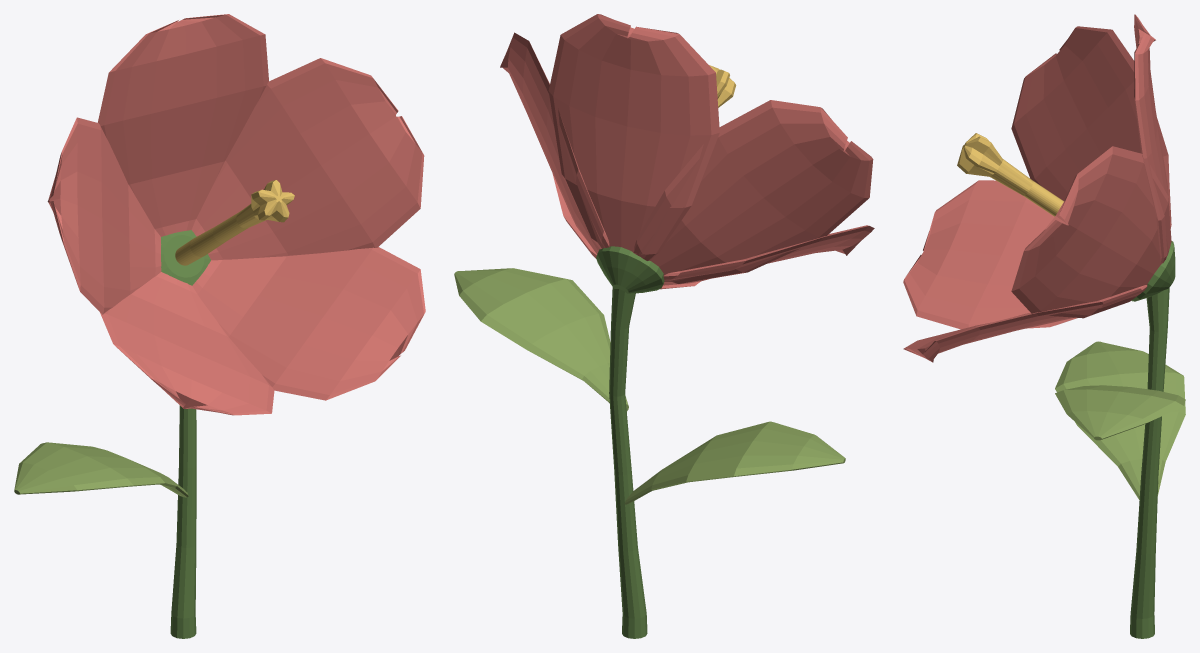
3 views of the same model, side by side, from view 1: azimuth 30°, elevation 25°; view 2: azimuth 150°, elevation 25°; view 3: azimuth 270°, elevation 25° (orthographic). The views are drawn at different scales.
Parts seen in each view (by area): view 1: WholeBroadCurvedCuppedHibiscusPetal4, WholeBroadCurvedCuppedHibiscusPetal3, WholeBroadCurvedCuppedHibiscusPetal0, WholeBroadCurvedCuppedHibiscusPetal2, WholeBroadCurvedCuppedHibiscusPetal1, WholeBroadPointedHibiscusStemLeaf0, WholeCurvedAboveGroundHibiscusStem, WholeLongProjectingColumnAndIntegralLobedEnd, WholeGreenFlowerReceptacle; view 2: WholeBroadCurvedCuppedHibiscusPetal0, WholeBroadCurvedCuppedHibiscusPetal1, WholeBroadPointedHibiscusStemLeaf1, WholeBroadPointedHibiscusStemLeaf0, WholeCurvedAboveGroundHibiscusStem, WholeBroadCurvedCuppedHibiscusPetal4, WholeBroadCurvedCuppedHibiscusPetal2, WholeGreenFlowerReceptacle, WholeBroadCurvedCuppedHibiscusPetal3; view 3: WholeBroadCurvedCuppedHibiscusPetal4, WholeBroadCurvedCuppedHibiscusPetal1, WholeBroadCurvedCuppedHibiscusPetal2, WholeBroadPointedHibiscusStemLeaf0, WholeCurvedAboveGroundHibiscusStem, WholeBroadPointedHibiscusStemLeaf1, WholeBroadCurvedCuppedHibiscusPetal0, WholeBroadCurvedCuppedHibiscusPetal3, WholeLongProjectingColumnAndIntegralLobedEnd, WholeGreenFlowerReceptacle.
Boxes of the visible parts, x1,y1,x2,y2 form: WholeBroadCurvedCuppedHibiscusPetal4: [191, 58, 424, 260]; WholeBroadCurvedCuppedHibiscusPetal3: [192, 247, 425, 400]; WholeBroadCurvedCuppedHibiscusPetal0: [97, 14, 268, 236]; WholeBroadCurvedCuppedHibiscusPetal2: [100, 272, 274, 415]; WholeBroadCurvedCuppedHibiscusPetal1: [47, 117, 161, 314]; WholeBroadPointedHibiscusStemLeaf0: [14, 442, 188, 497]; WholeCurvedAboveGroundHibiscusStem: [170, 405, 196, 638]; WholeLongProjectingColumnAndIntegralLobedEnd: [175, 180, 294, 265]; WholeGreenFlowerReceptacle: [161, 230, 210, 285]; WholeBroadCurvedCuppedHibiscusPetal0: [548, 14, 719, 260]; WholeBroadCurvedCuppedHibiscusPetal1: [633, 100, 873, 284]; WholeBroadPointedHibiscusStemLeaf1: [454, 268, 628, 411]; WholeBroadPointedHibiscusStemLeaf0: [624, 421, 845, 504]; WholeCurvedAboveGroundHibiscusStem: [609, 287, 647, 638]; WholeBroadCurvedCuppedHibiscusPetal4: [500, 32, 609, 253]; WholeBroadCurvedCuppedHibiscusPetal2: [663, 225, 874, 285]; WholeGreenFlowerReceptacle: [596, 246, 664, 293]; WholeBroadCurvedCuppedHibiscusPetal3: [552, 173, 700, 289]; WholeBroadCurvedCuppedHibiscusPetal4: [1011, 146, 1171, 318]; WholeBroadCurvedCuppedHibiscusPetal1: [1011, 26, 1171, 228]; WholeBroadCurvedCuppedHibiscusPetal2: [903, 180, 1077, 329]; WholeBroadPointedHibiscusStemLeaf0: [1055, 341, 1185, 499]; WholeCurvedAboveGroundHibiscusStem: [1130, 288, 1169, 638]; WholeBroadPointedHibiscusStemLeaf1: [1055, 385, 1185, 440]; WholeBroadCurvedCuppedHibiscusPetal0: [1134, 14, 1168, 263]; WholeBroadCurvedCuppedHibiscusPetal3: [903, 285, 1147, 362]; WholeLongProjectingColumnAndIntegralLobedEnd: [957, 133, 1063, 216]; WholeGreenFlowerReceptacle: [1131, 241, 1175, 301].
Size of the model in its own units: 1.23 by 1.83 by 0.7811.
